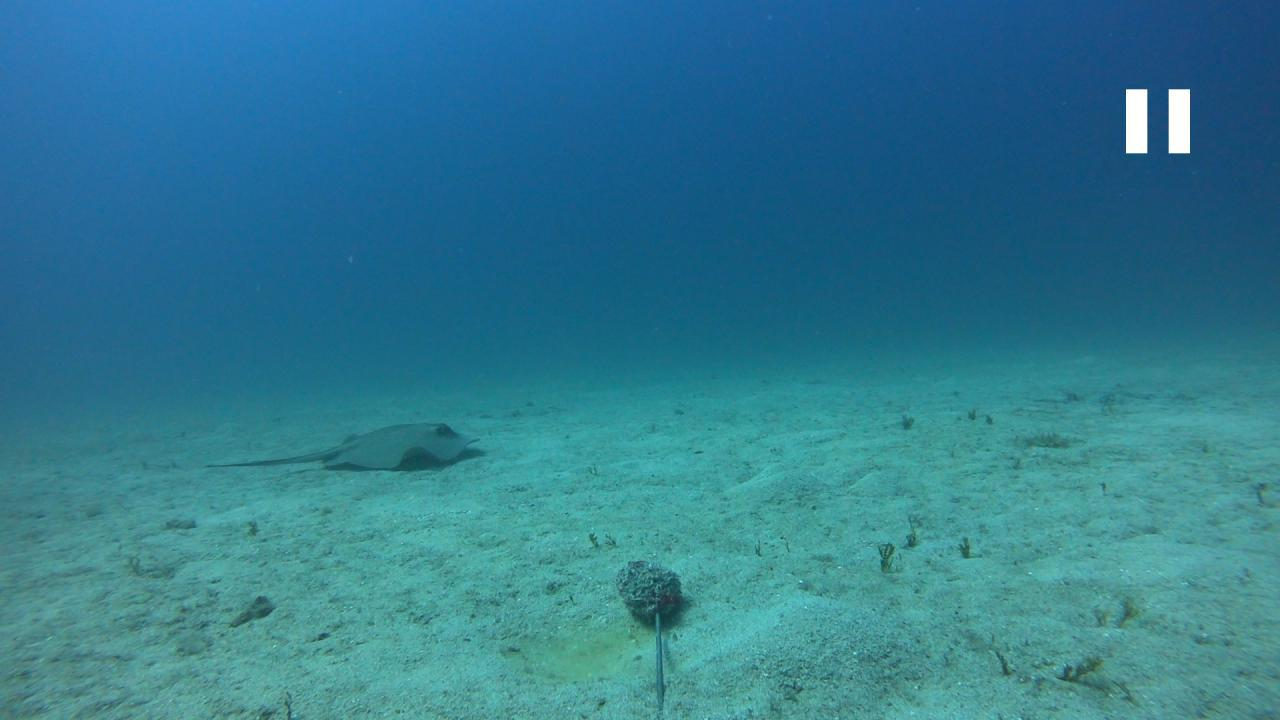dasyatis: (201, 421, 479, 469)
